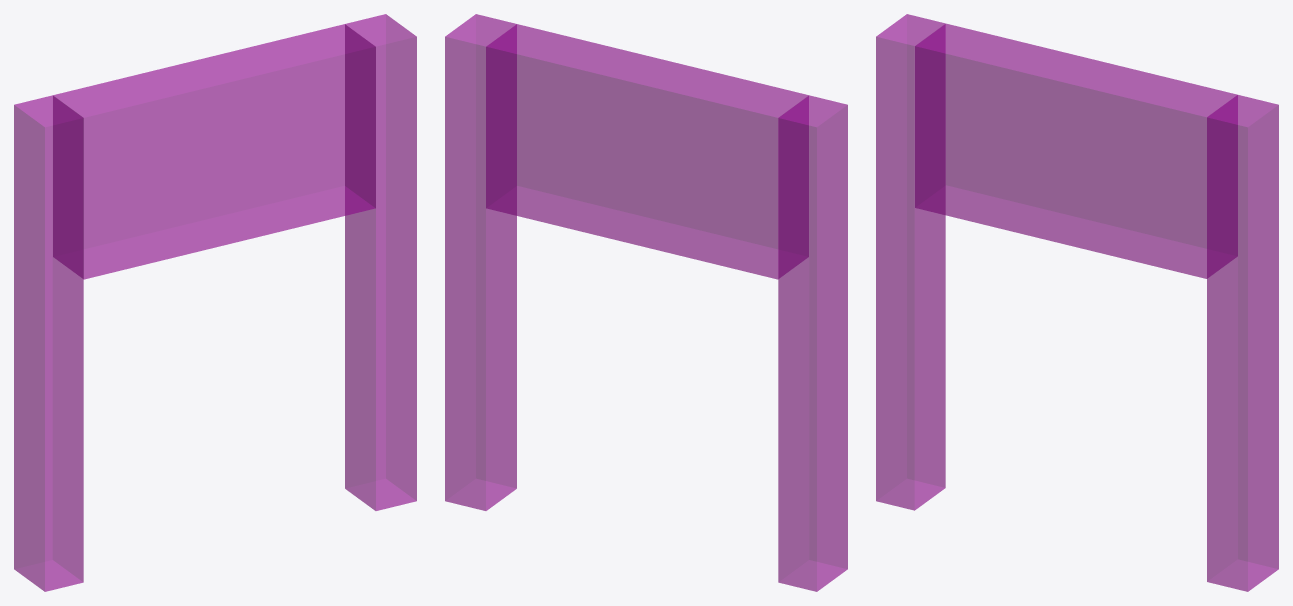
File: SM_Bld_Wall_Door_Double_01_Collision.fbx
3 renders of one model, left to right at view 1: azimuth 30°, elevation 25°; view 2: azimuth 150°, elevation 25°; view 3: azimuth 330°, elevation 25°, orthographic.
Parts seen in each view (by area): view 1: SM_Bld_Wall_Door_Double_01_Collision; view 2: SM_Bld_Wall_Door_Double_01_Collision; view 3: SM_Bld_Wall_Door_Double_01_Collision.
Boxes of the visible parts, left/top/right/bottom form: SM_Bld_Wall_Door_Double_01_Collision: left=14, top=14, right=416, bottom=591; SM_Bld_Wall_Door_Double_01_Collision: left=445, top=14, right=847, bottom=591; SM_Bld_Wall_Door_Double_01_Collision: left=876, top=14, right=1278, bottom=591.
Size of the model in its own units: 253 by 302 by 36.52.
